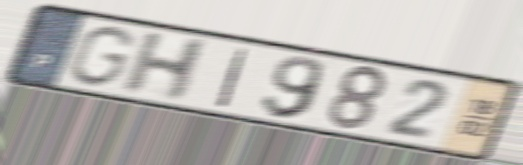2: (382, 78, 455, 143)
8: (326, 65, 388, 132)
9: (259, 56, 328, 121)
G: (63, 24, 139, 90)
H: (117, 30, 214, 104)
I: (213, 46, 252, 110)
